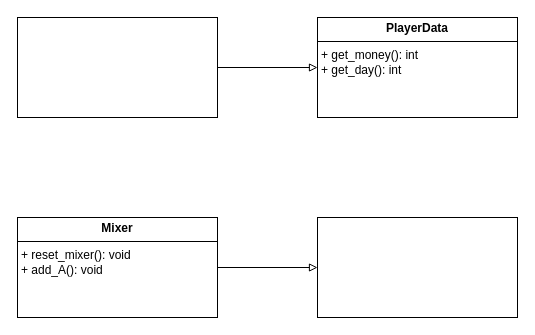
Image size: 535x335. Some labels were removed from this diagram. Here are the shapes that lost their labels. From the top down, the centre of each, then its label:
At [117,67]: "Customer + get_drink(): list + get_order(): str".
At [417,267]: "Game + run(): void".
